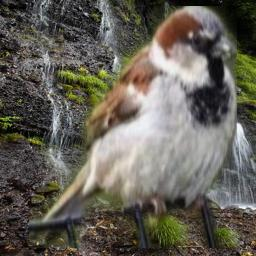Sparrow: (29, 6, 237, 248)
